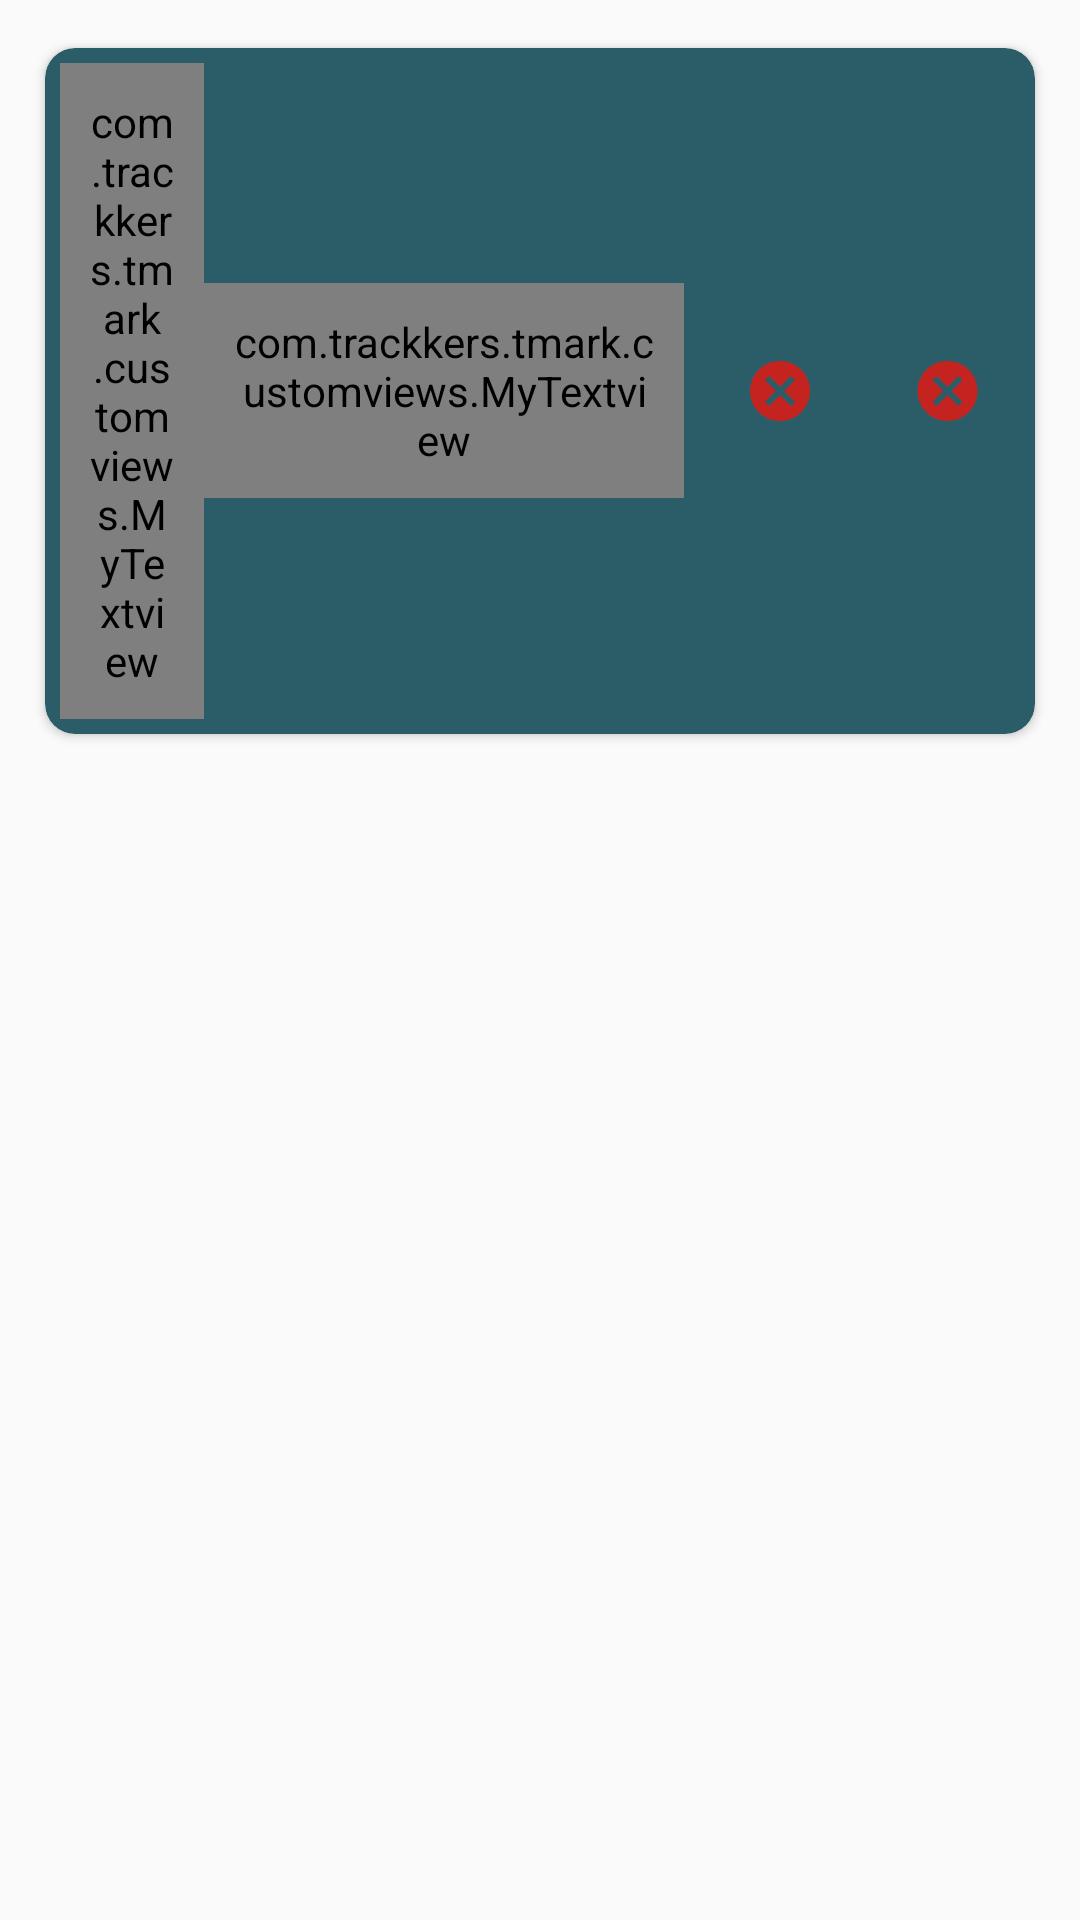

Locate icon controls on the screen. Image size 1080px x 1920px, boxes as bbox(x1, y1, x2, y2).
cancel: bbox(750, 361, 810, 421), bbox(917, 361, 978, 421)
